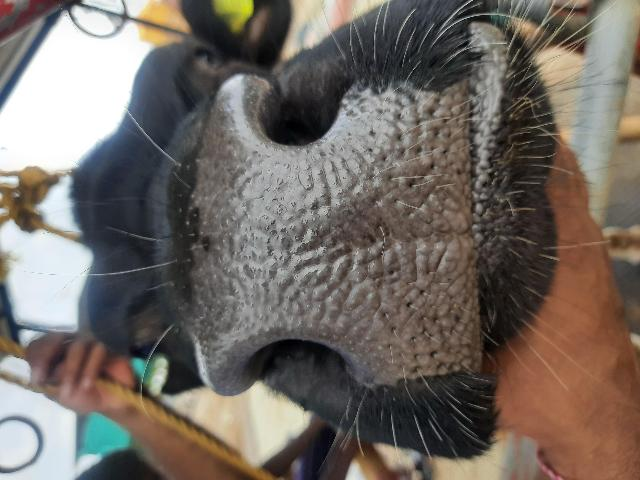Muzzle: (215, 148, 470, 330)
